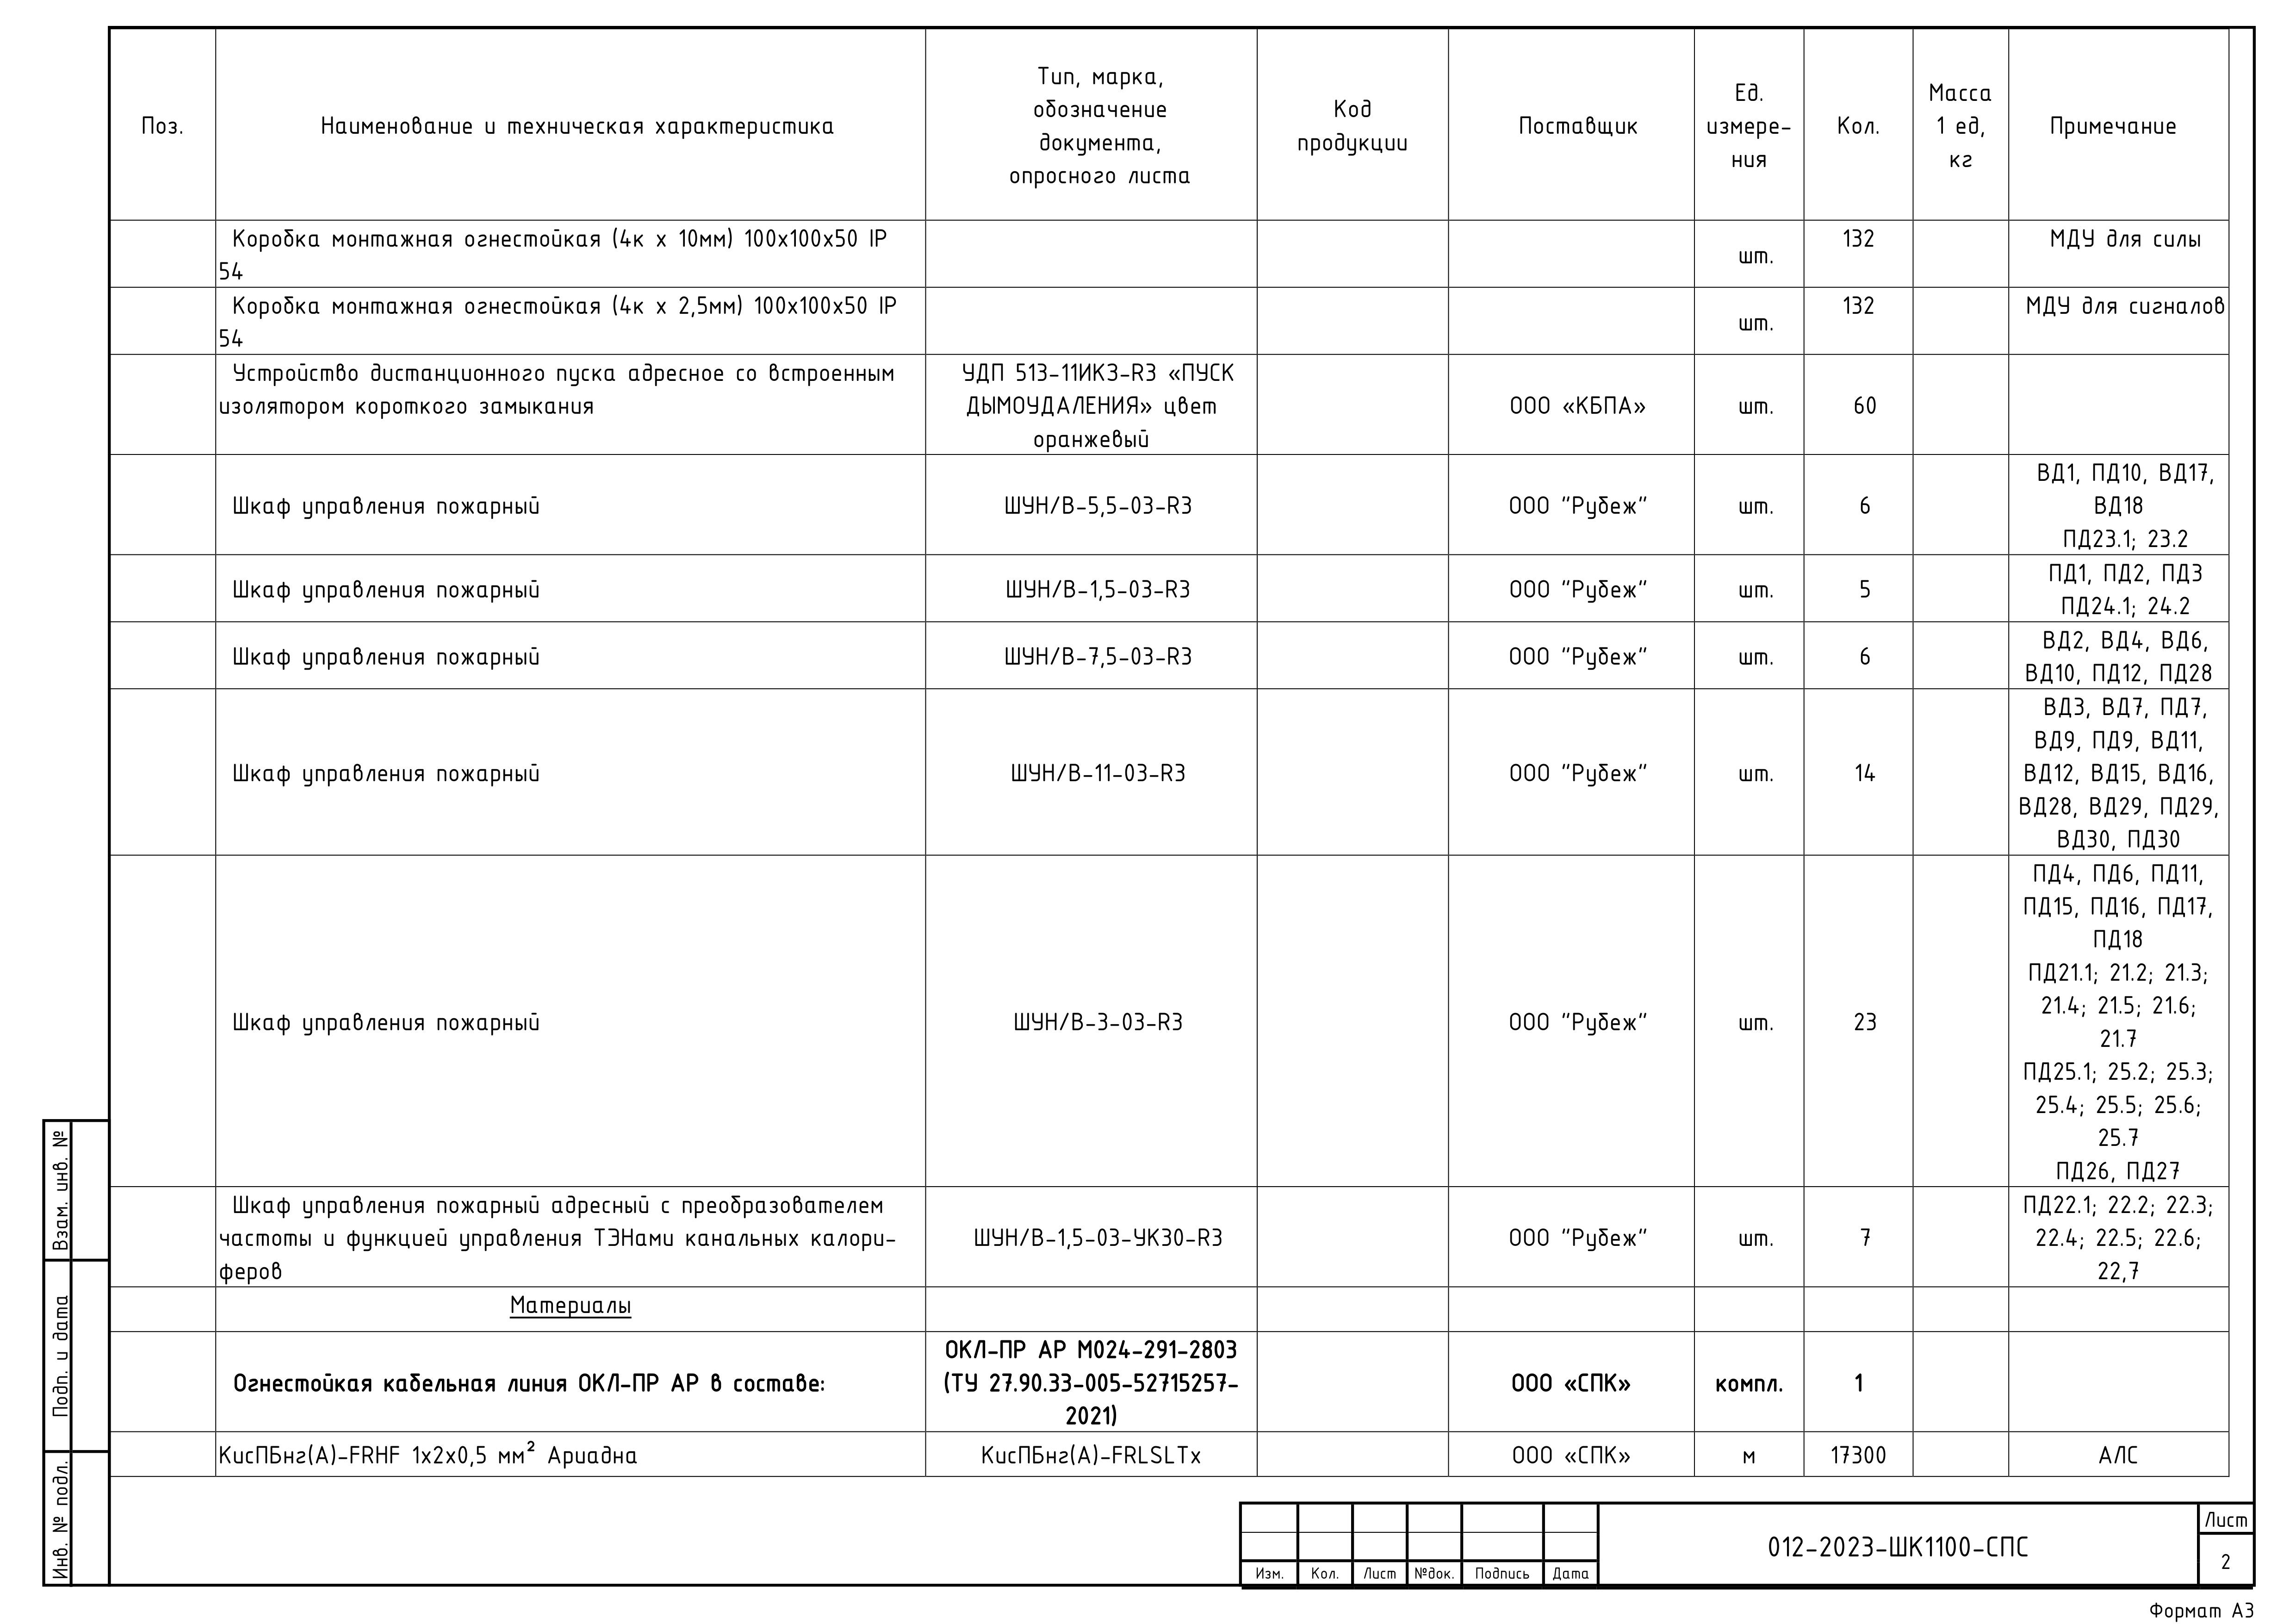Name of costs: (214, 220, 928, 1476)
Note: (928, 220, 1256, 1473)
Quantity: (1804, 220, 1913, 1476)
Unit of measurement: (1695, 218, 1804, 1476)
